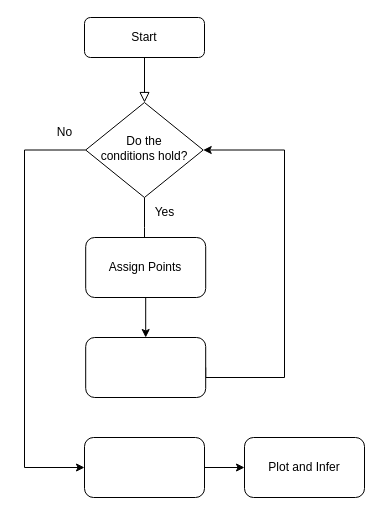
The diagram is 382 pixels wide and 515 high, and some of its shapes have lost their labels. The centre of each missing label's shape, as x and y in pixels:
"Set Final Centroids" goes at pixel 144 467.
"Update Centroids" goes at pixel 145 367.
